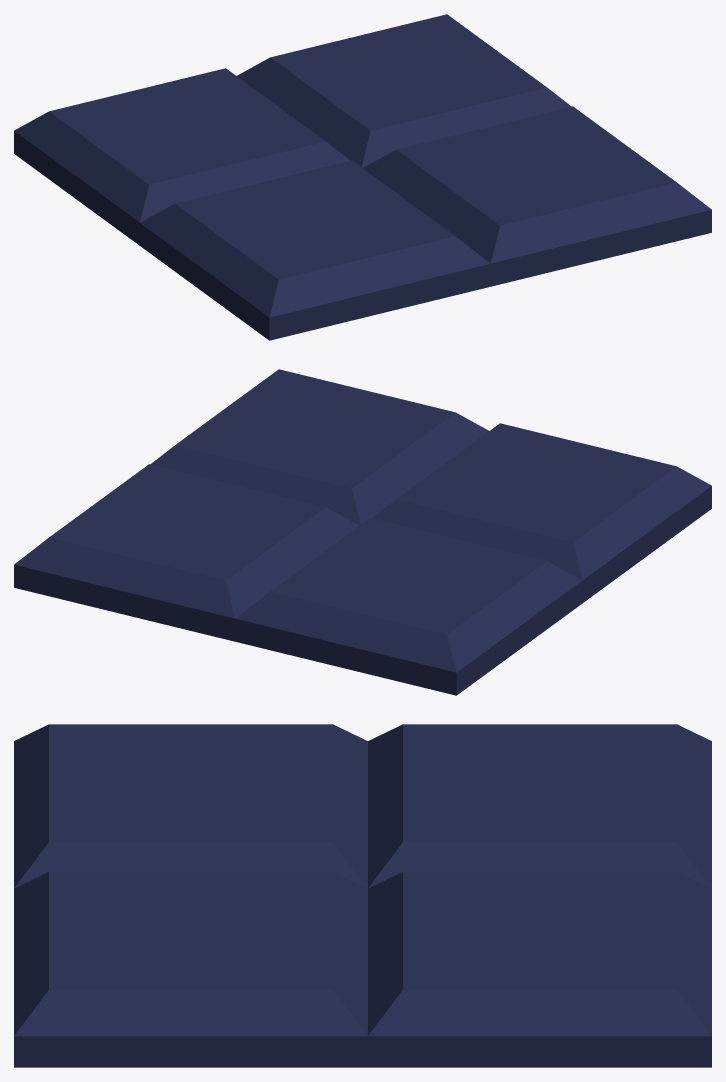
Rendered from Tile.fbx.
The picture shows the model from 3 angles, top to bottom: view 1: azimuth 30°, elevation 25°; view 2: azimuth 150°, elevation 25°; view 3: azimuth 270°, elevation 25°; orthographic projection. The views are drawn at different scales.
Visible parts, largest first — view 1: obj_0.010; view 2: obj_0.010; view 3: obj_0.010.
Boxes of the visible parts, x1,y1,x2,y2 form: obj_0.010: (14,14,711,340); obj_0.010: (14,369,711,695); obj_0.010: (14,724,711,1067).
Size of the model in its own units: 2000 by 200 by 2000.
